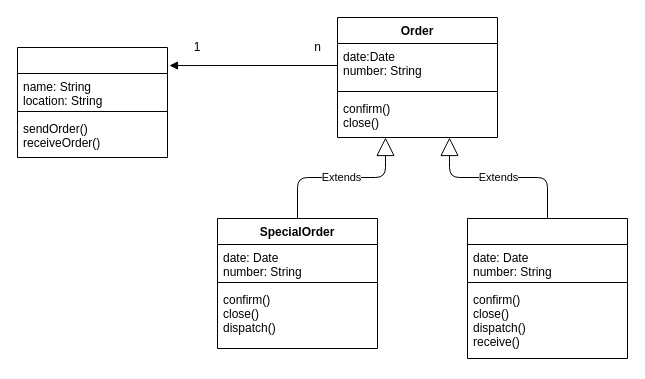
The diagram is 645 pixels wide and 379 high, and some of its shapes have lost their labels. Here are the shapes that lost their labels. From the top down, the box of each, then its label:
(16, 46, 168, 158): Customer
(466, 218, 628, 358): NormalOrder
